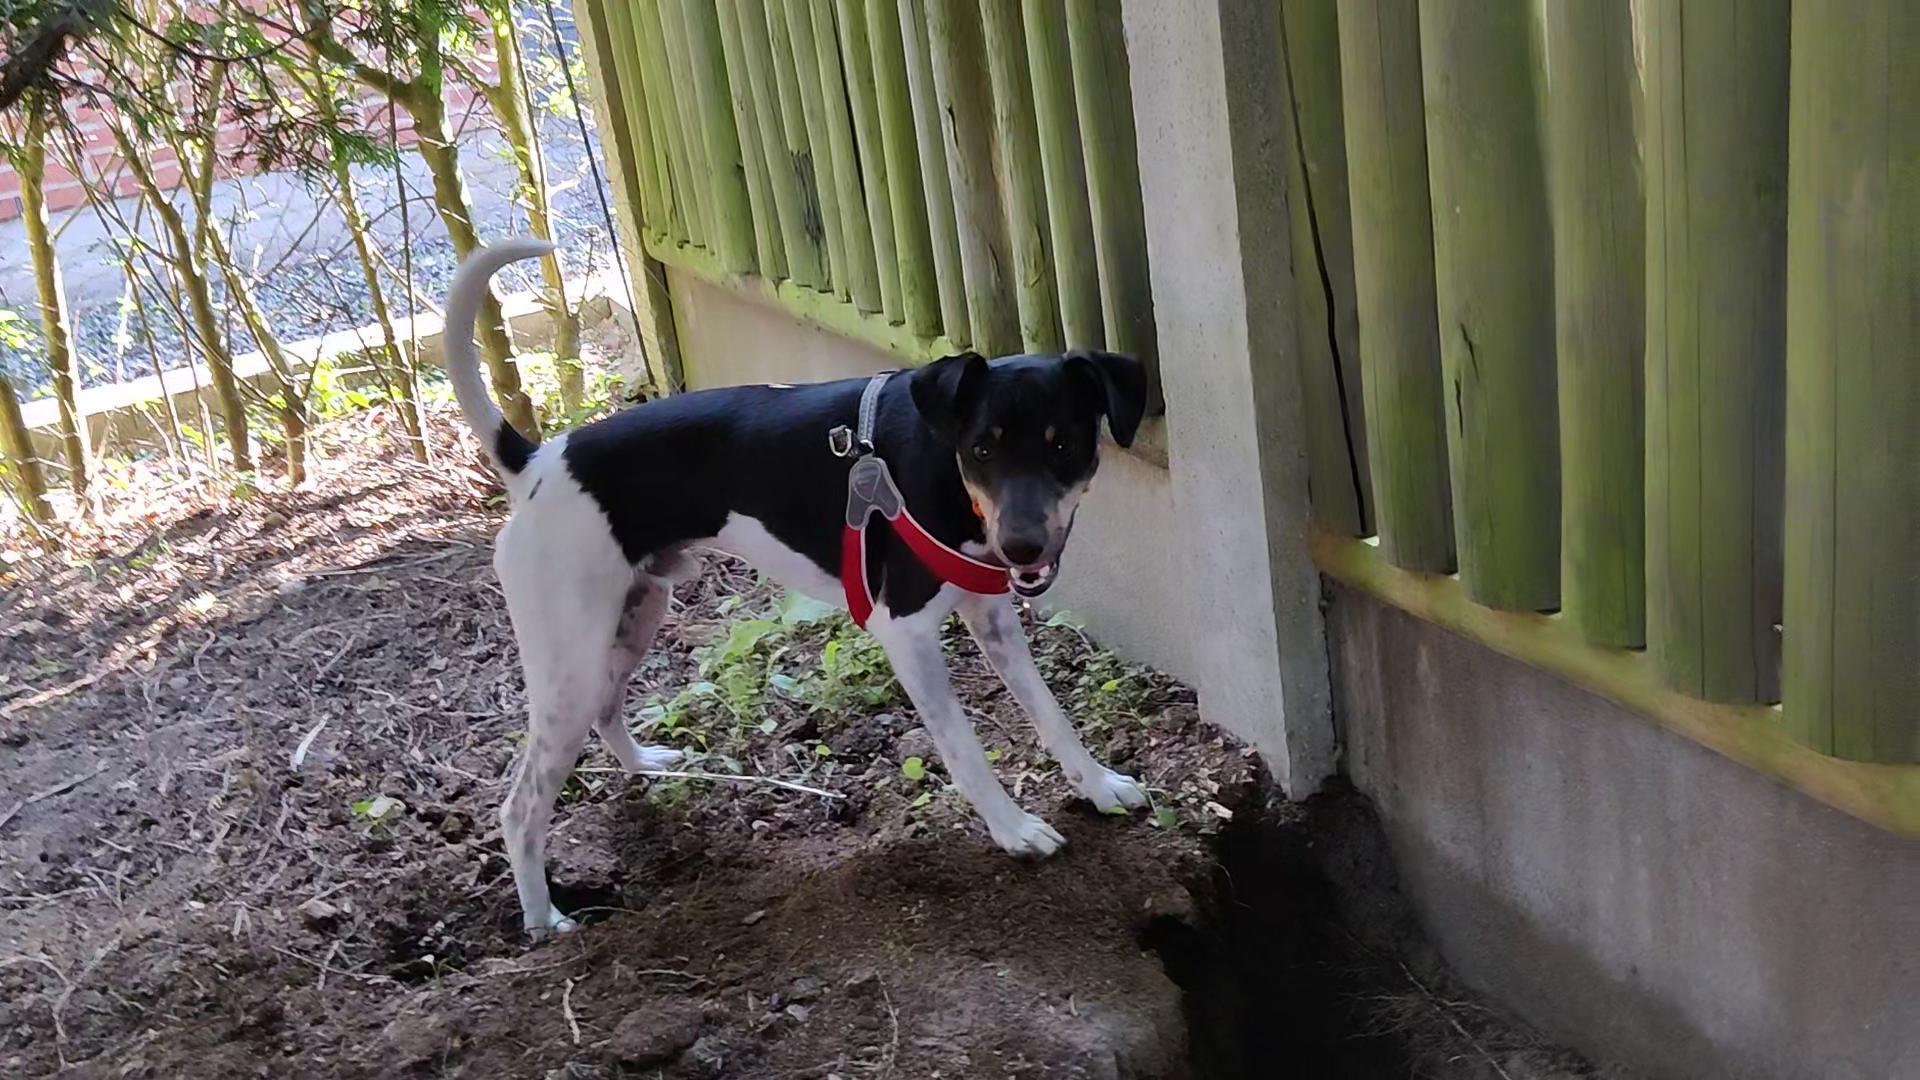Dog: (407, 227, 1182, 947)
